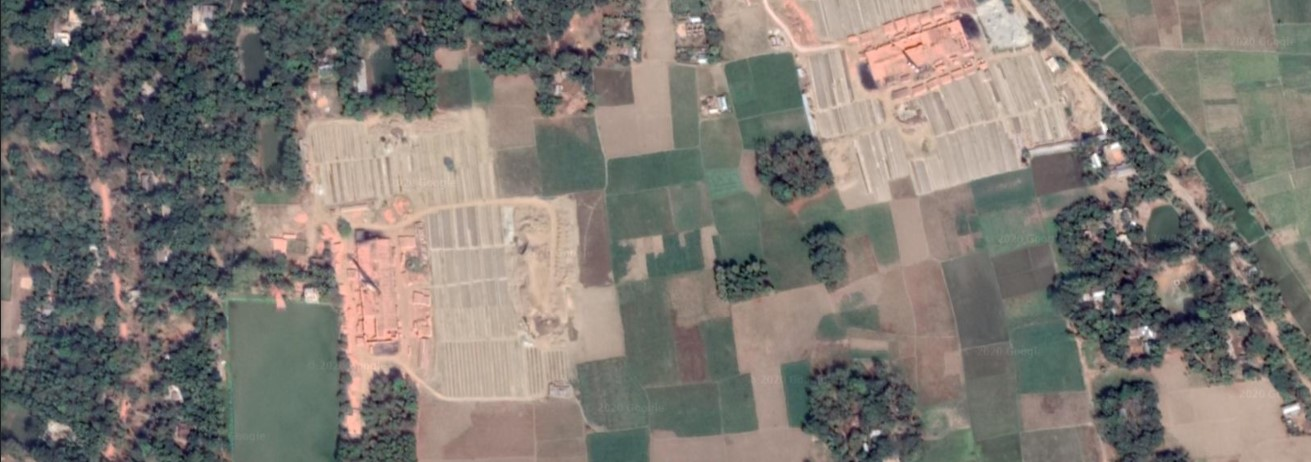kiln: (332, 231, 409, 349), (852, 24, 975, 78)
